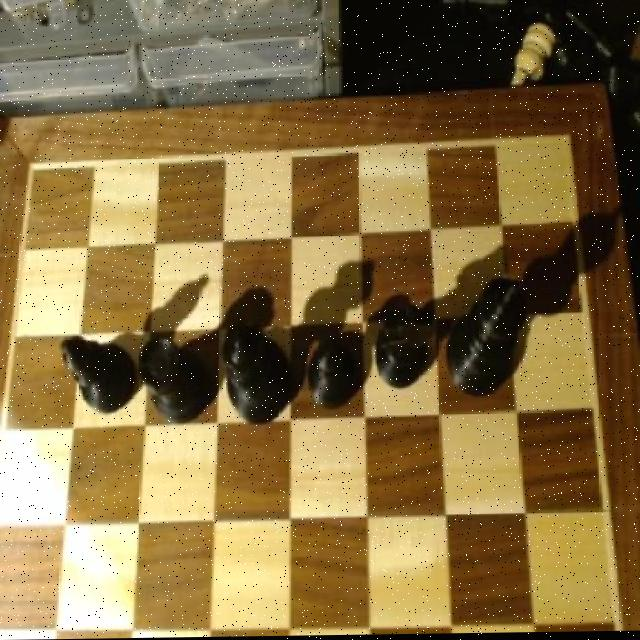black-bishop: (446, 273, 532, 398)
black-king: (368, 296, 438, 392)
black-knight: (57, 330, 137, 422), (304, 337, 361, 413)
black-pawn: (215, 318, 292, 431)
black-queen: (137, 325, 211, 425)
